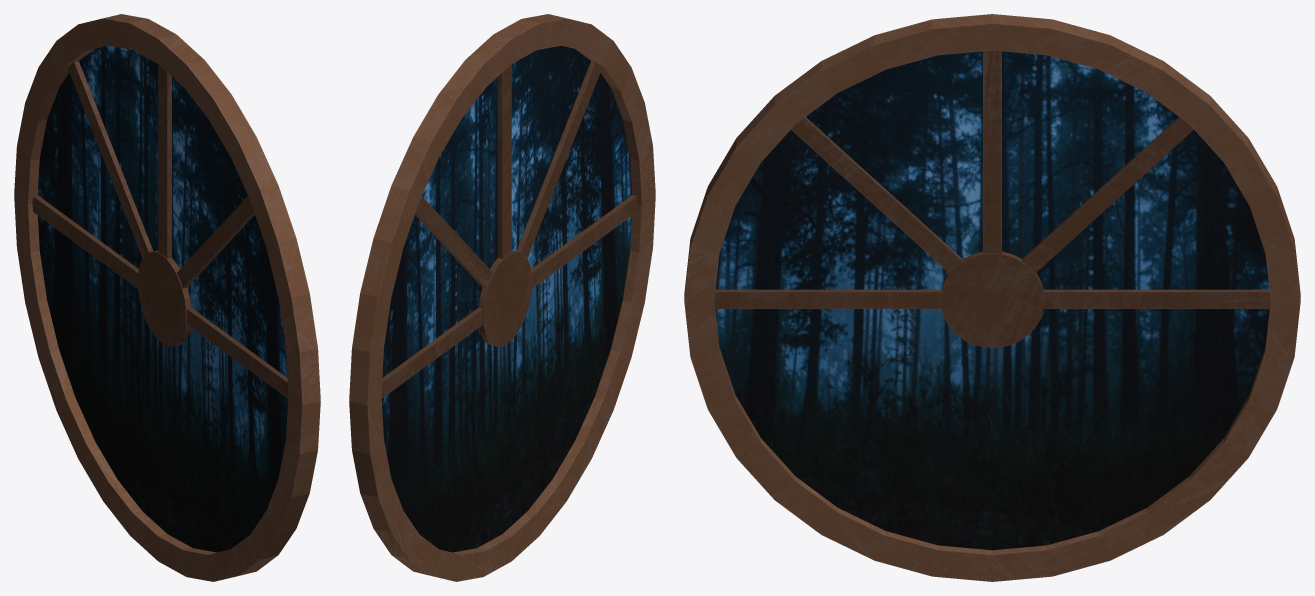
The model's file is WindowUnity.fbx.
3 views of the same model, side by side, from view 1: azimuth 30°, elevation 25°; view 2: azimuth 150°, elevation 25°; view 3: azimuth 270°, elevation 25° (orthographic). The views are drawn at different scales.
Parts seen in each view (by area): view 1: Окружность.003, Окружность.001, Окружность.002; view 2: Окружность.003, Окружность.001, Окружность.002; view 3: Окружность.003, Окружность.001, Окружность.002.
Part boxes in pixels (x1,y1,x2,y2): Окружность.003: (37, 45, 288, 552); Окружность.001: (14, 14, 320, 581); Окружность.002: (32, 61, 288, 398); Окружность.003: (381, 45, 632, 552); Окружность.001: (349, 14, 655, 581); Окружность.002: (381, 61, 637, 398); Окружность.003: (715, 51, 1269, 550); Окружность.001: (684, 14, 1300, 581); Окружность.002: (714, 50, 1270, 347).
Size of the model in its own units: 7.37 by 200 by 200.
